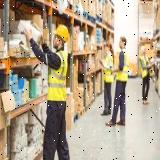Helmet: (52, 23, 69, 44)
Vest: (46, 49, 68, 111), (116, 48, 129, 82), (103, 54, 114, 84), (140, 55, 150, 79)
